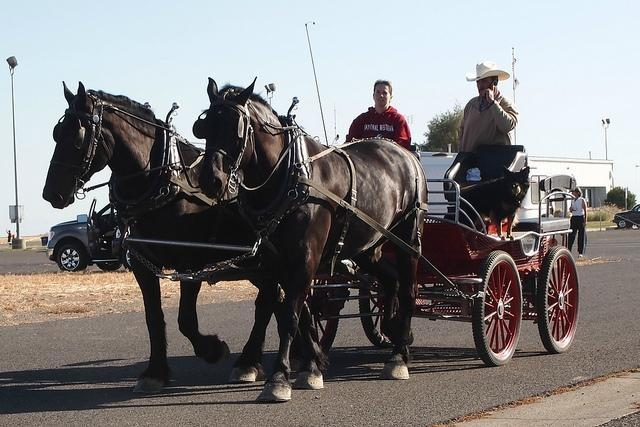car: (46, 199, 128, 271), (612, 204, 640, 230)
truck: (47, 198, 129, 274), (612, 202, 640, 229)
